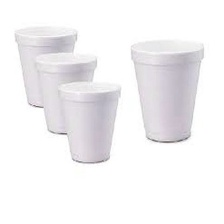paper_cup: (125, 34, 208, 146), (10, 21, 80, 110), (54, 77, 124, 166), (30, 48, 100, 136)
